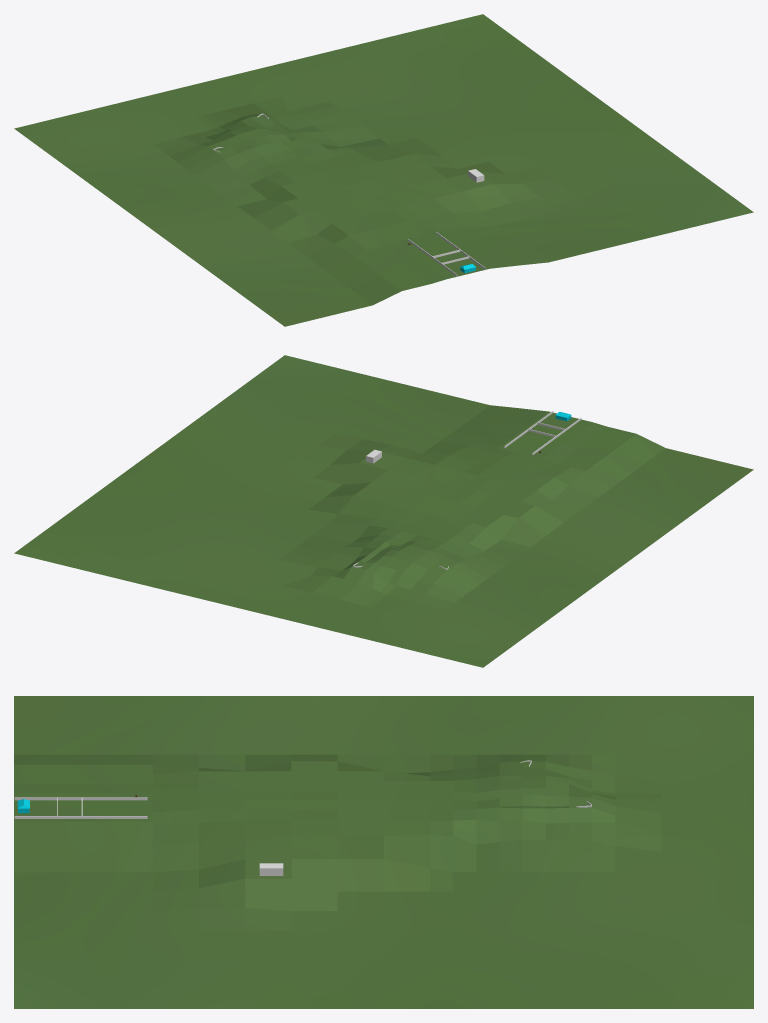
Rendered from map_2.glb.
The picture shows the model from 3 angles, top to bottom: view 1: azimuth 30°, elevation 25°; view 2: azimuth 150°, elevation 25°; view 3: azimuth 270°, elevation 25°; orthographic projection. The views are drawn at different scales.
Parts seen in each view (by area): view 1: Ground; view 2: Ground; view 3: Ground, concrete_wall_4.
Part boxes in pixels (bbox=[...]): Ground: bbox=[14, 14, 753, 326]; Ground: bbox=[14, 355, 753, 667]; Ground: bbox=[14, 696, 753, 1008]; concrete_wall_4: bbox=[14, 797, 147, 800].
Size of what is drawn, in the model's own units: 500 by 15.43 by 500.
5 materials, 1 textured.
